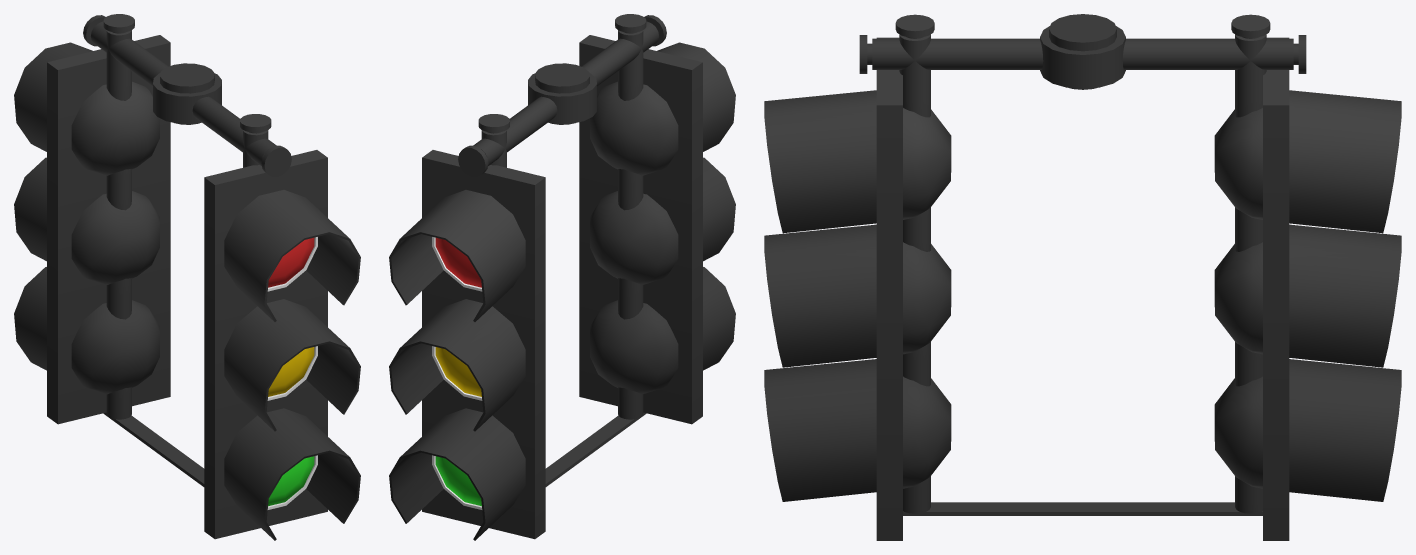
Rendered from traffic_light_02_base_large_black.glb.
The picture shows the model from 3 angles, left to right: view 1: azimuth 30°, elevation 25°; view 2: azimuth 150°, elevation 25°; view 3: azimuth 270°, elevation 25°; orthographic projection. The views are drawn at different scales.
Visible parts, largest first — view 1: traffic_light_02_base_large_black.002, traffic_light_02_base_large_black.001, traffic_light_02_base_large_black; view 2: traffic_light_02_base_large_black.001, traffic_light_02_base_large_black.002, traffic_light_02_base_large_black; view 3: traffic_light_02_base_large_black.001, traffic_light_02_base_large_black.002, traffic_light_02_base_large_black.
Part boxes in pixels (box(x1,y1,x2,y2)): traffic_light_02_base_large_black.002: box(14, 14, 170, 424); traffic_light_02_base_large_black.001: box(204, 114, 360, 540); traffic_light_02_base_large_black: box(83, 15, 291, 486); traffic_light_02_base_large_black.001: box(579, 14, 735, 424); traffic_light_02_base_large_black.002: box(389, 114, 545, 540); traffic_light_02_base_large_black: box(458, 15, 666, 486); traffic_light_02_base_large_black.001: box(764, 14, 951, 540); traffic_light_02_base_large_black.002: box(1214, 14, 1401, 540); traffic_light_02_base_large_black: box(859, 14, 1306, 515).
Size of the model in its own units: 0.356 by 1.2 by 1.41.
1 material, 1 textured.
